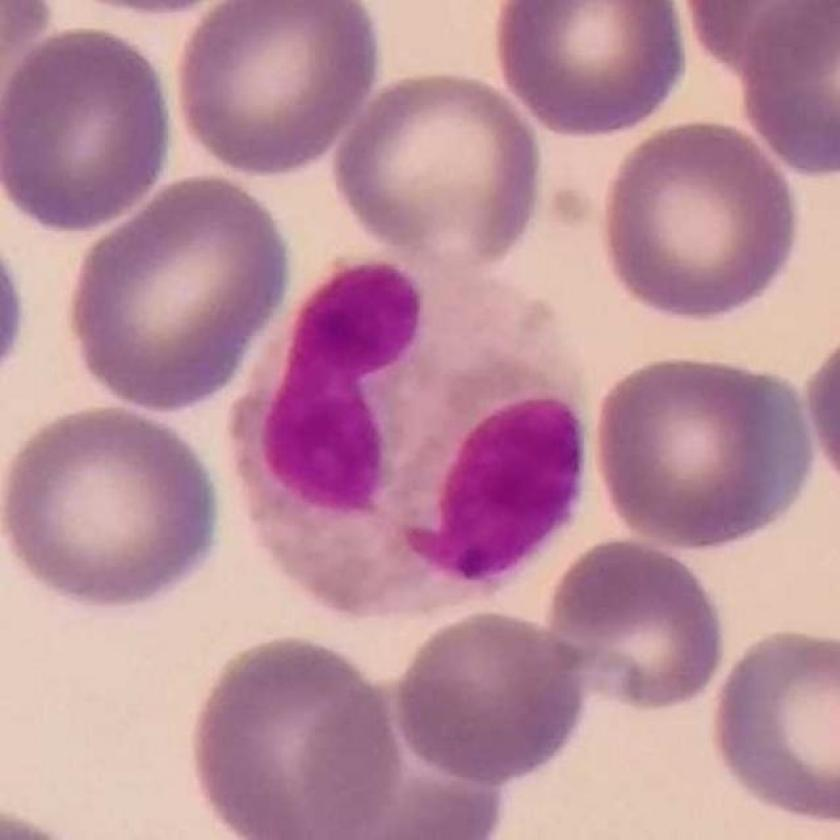eosinophil: (228, 241, 596, 623)
